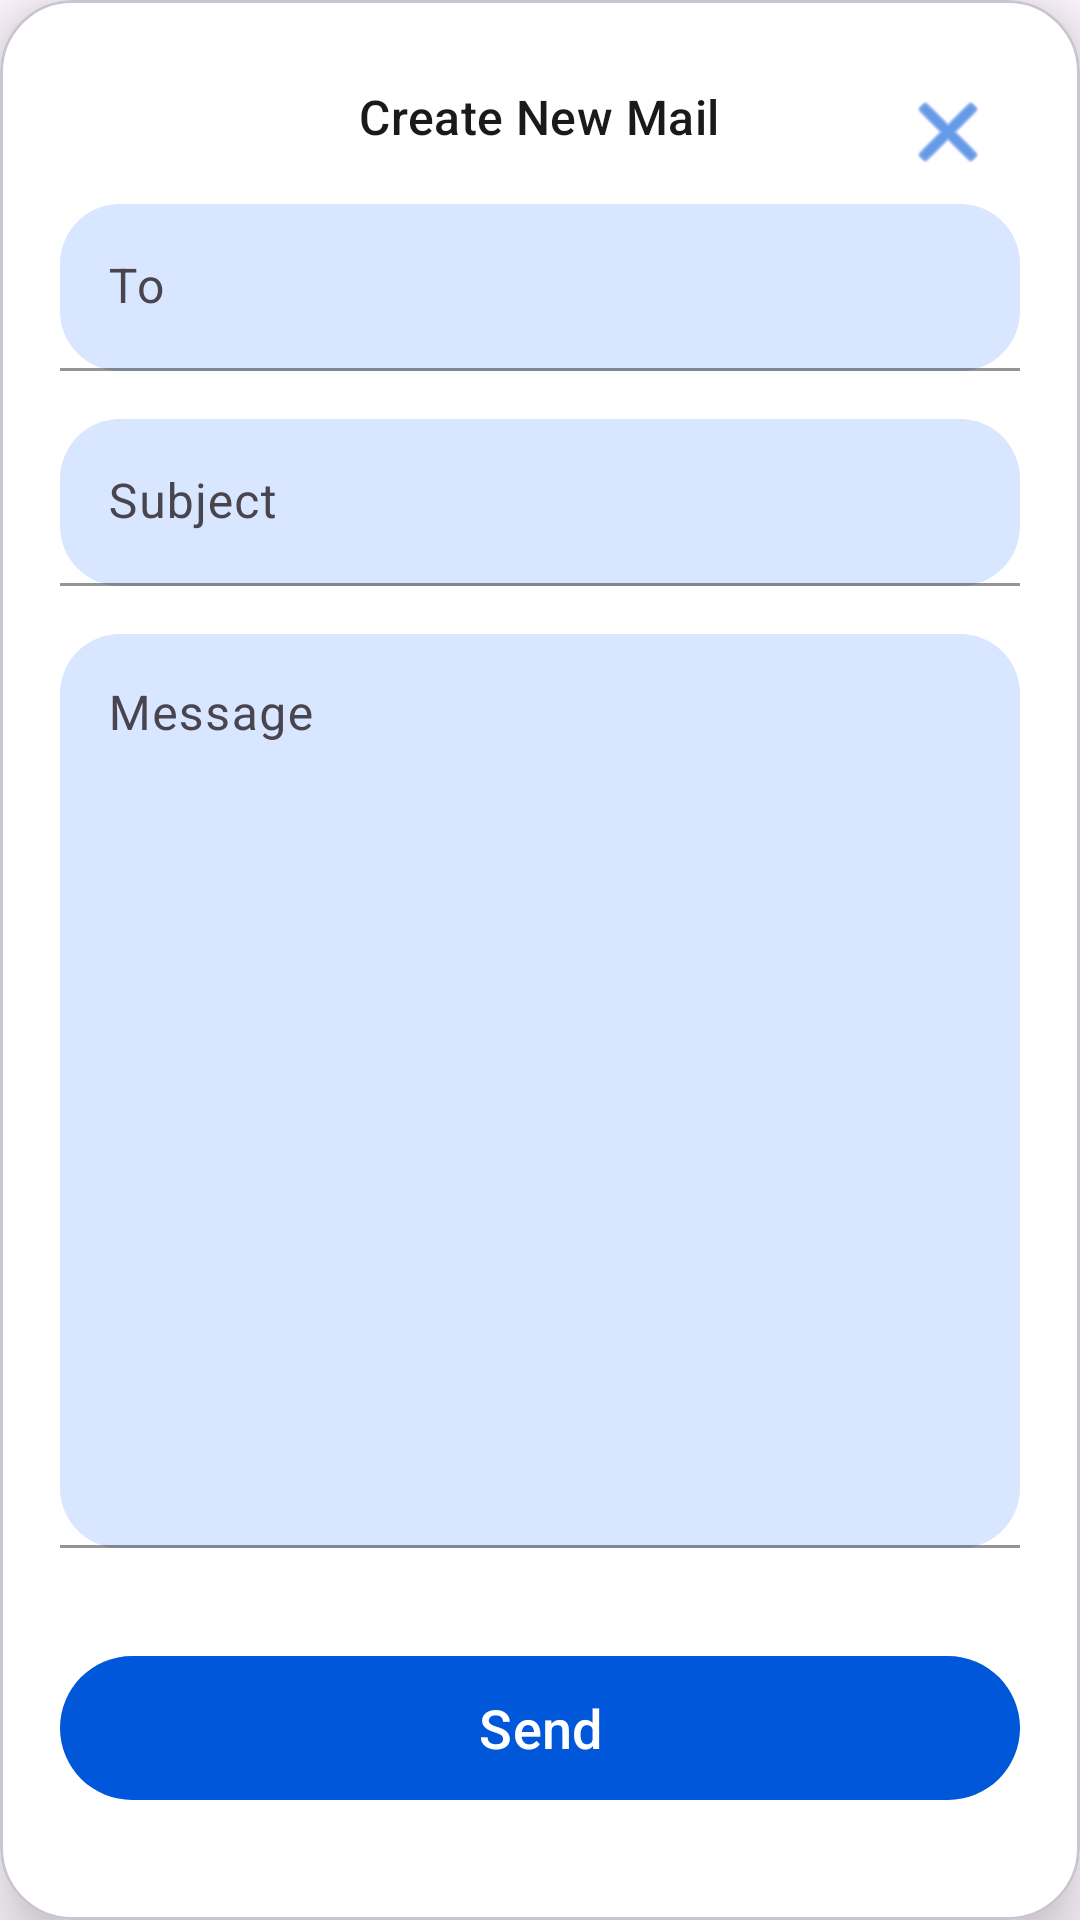

Where to tap for icons on this 1080x1920 app screen, as (x,y):
Close: (948,132)
